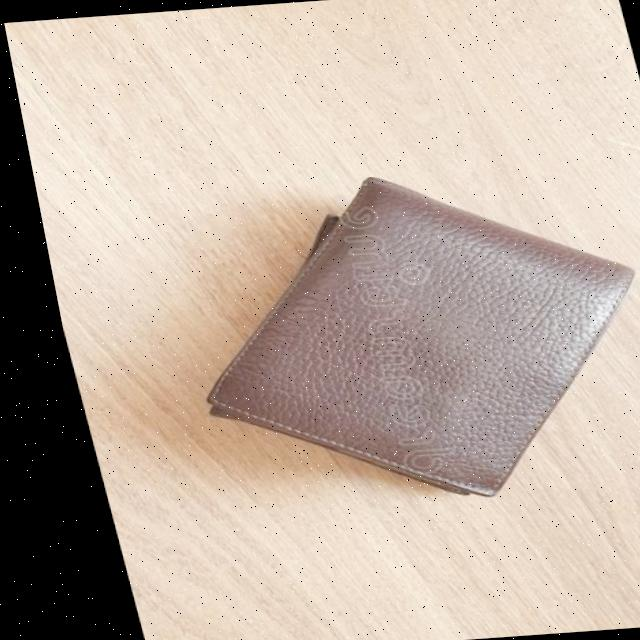cuzdan: (161, 123, 640, 536)
